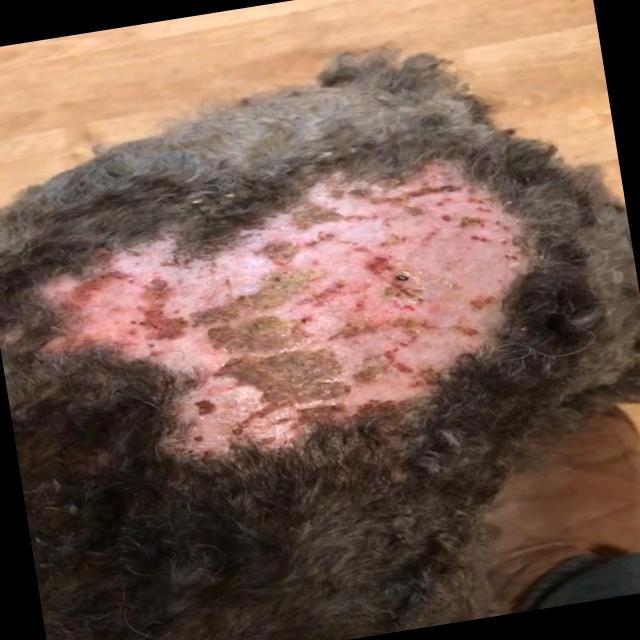allergic dermatitis: (32, 153, 536, 459)
